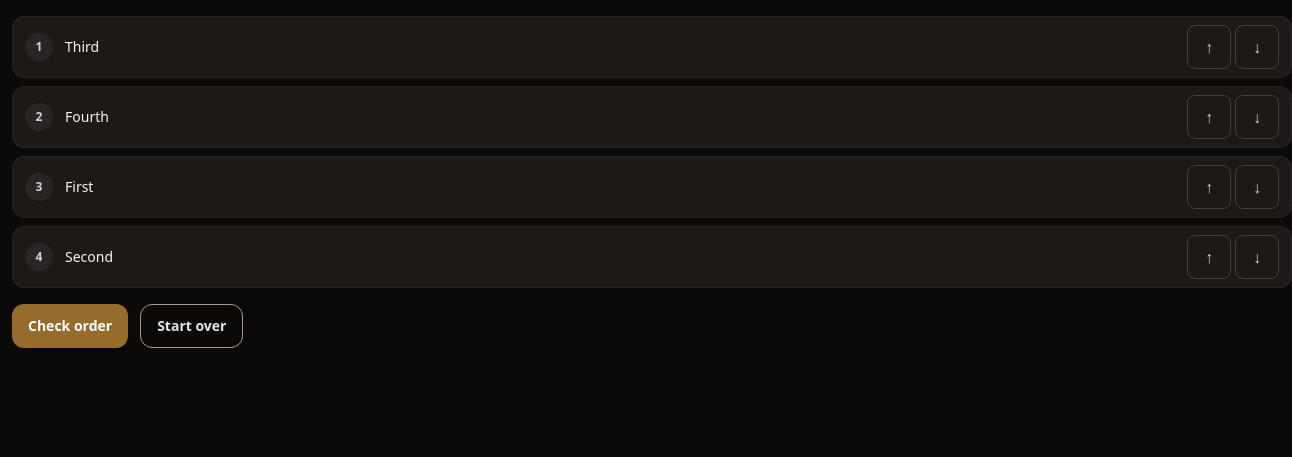
Test: OrderStepsComponent › confirms and explains once the order is right
The width and height of the screenshot is (1292, 457).
Click the button "↑" in the row of "First" at (1209, 187), box x1=1187 y1=165 x2=1231 y2=209
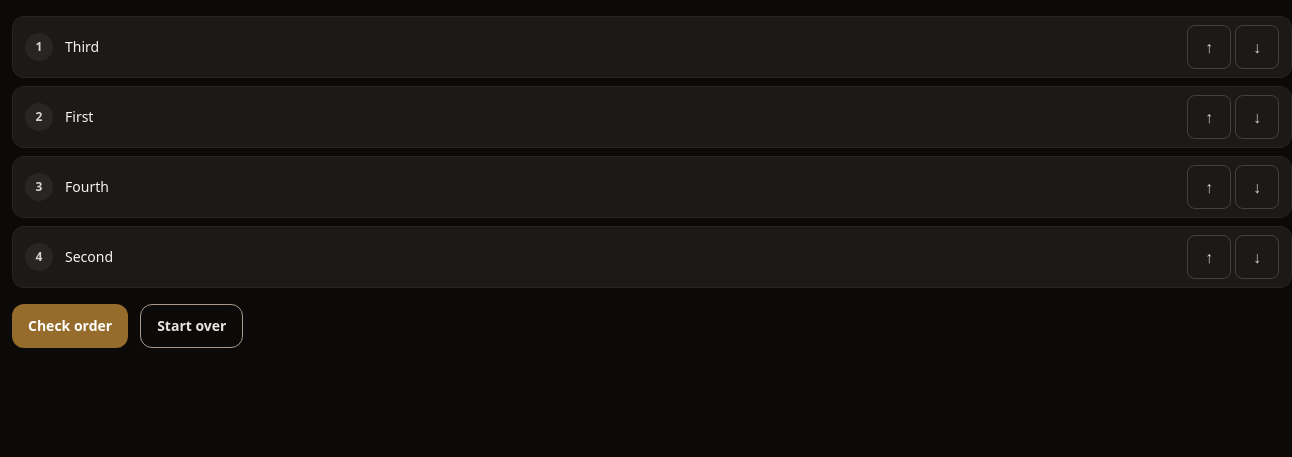
Click the button "↑" in the row of "First" at (1209, 117), box x1=1187 y1=95 x2=1231 y2=139
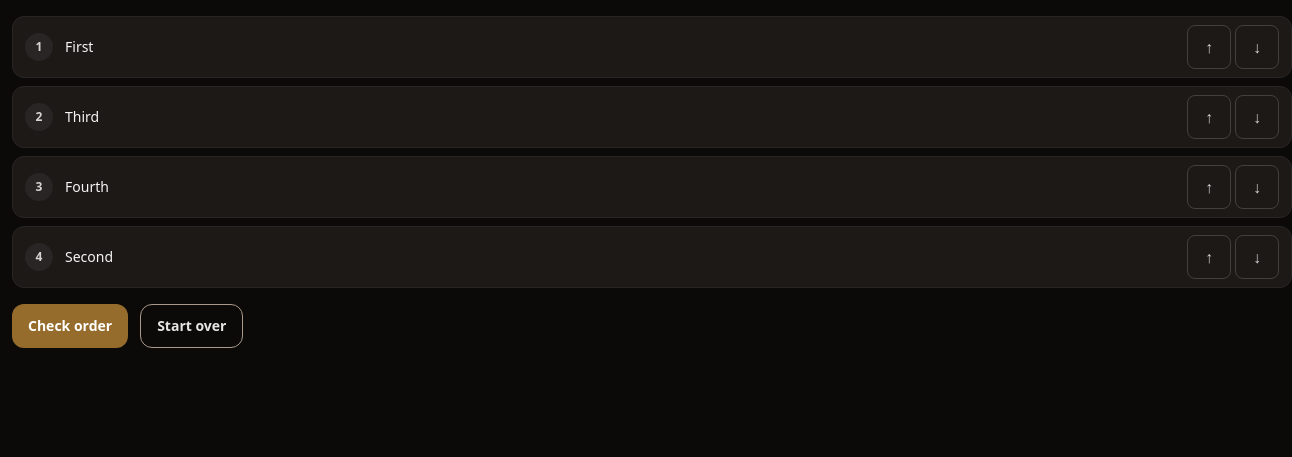
Click the button "↑" in the row of "Second" at (1209, 257), box x1=1187 y1=235 x2=1231 y2=279
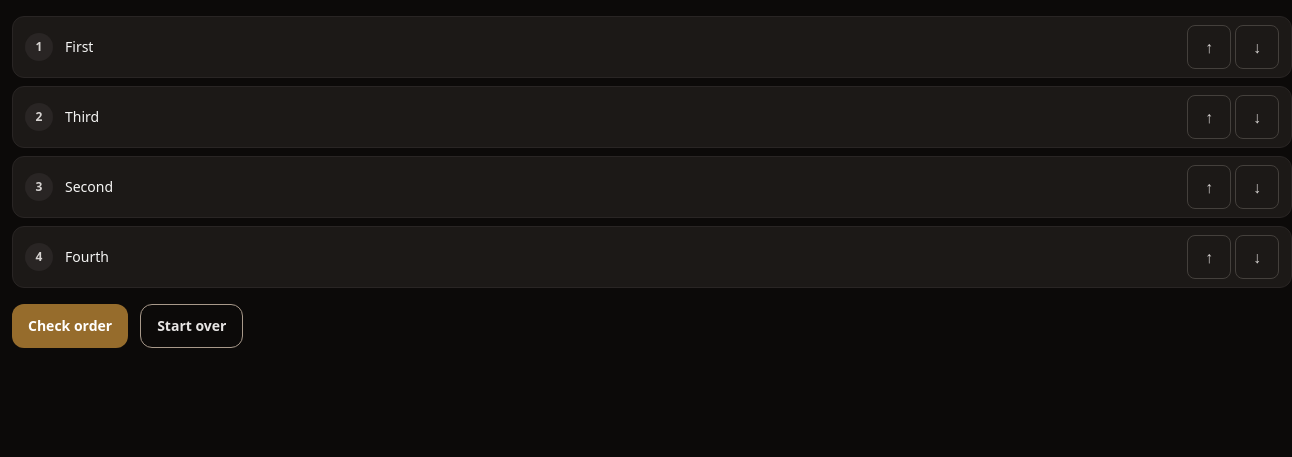
Click the button "↑" in the row of "Second" at (1209, 187), box x1=1187 y1=165 x2=1231 y2=209
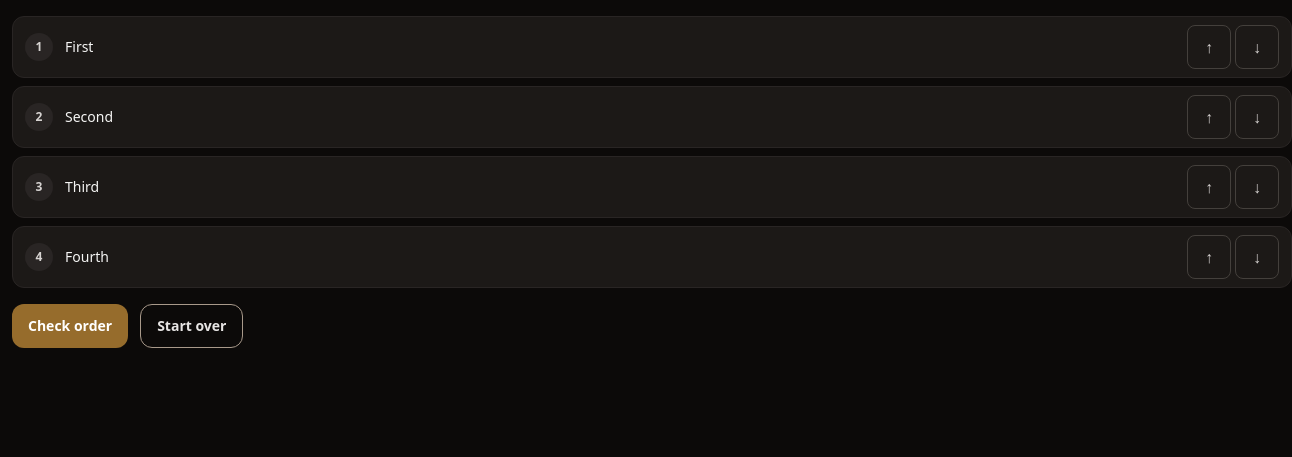
Click the button "Check order" at (70, 326), box x1=12 y1=304 x2=128 y2=348
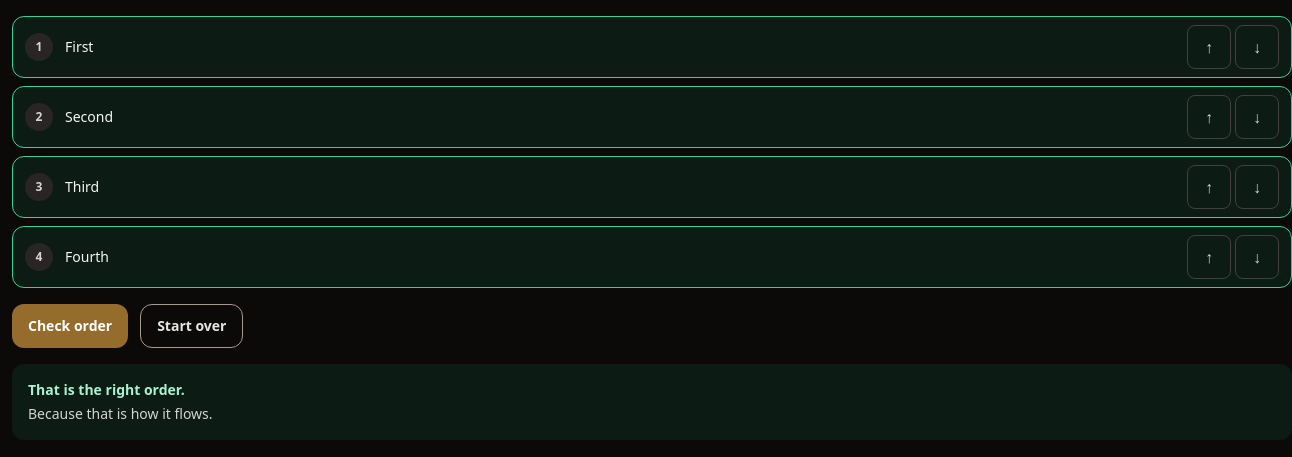
Expected: the message with test id "order-result" shows "That is the right order.", x1=28 y1=380 x2=185 y2=399
Expected: the message with test id "order-result" shows "Because that is how it flows.", x1=28 y1=404 x2=213 y2=423
